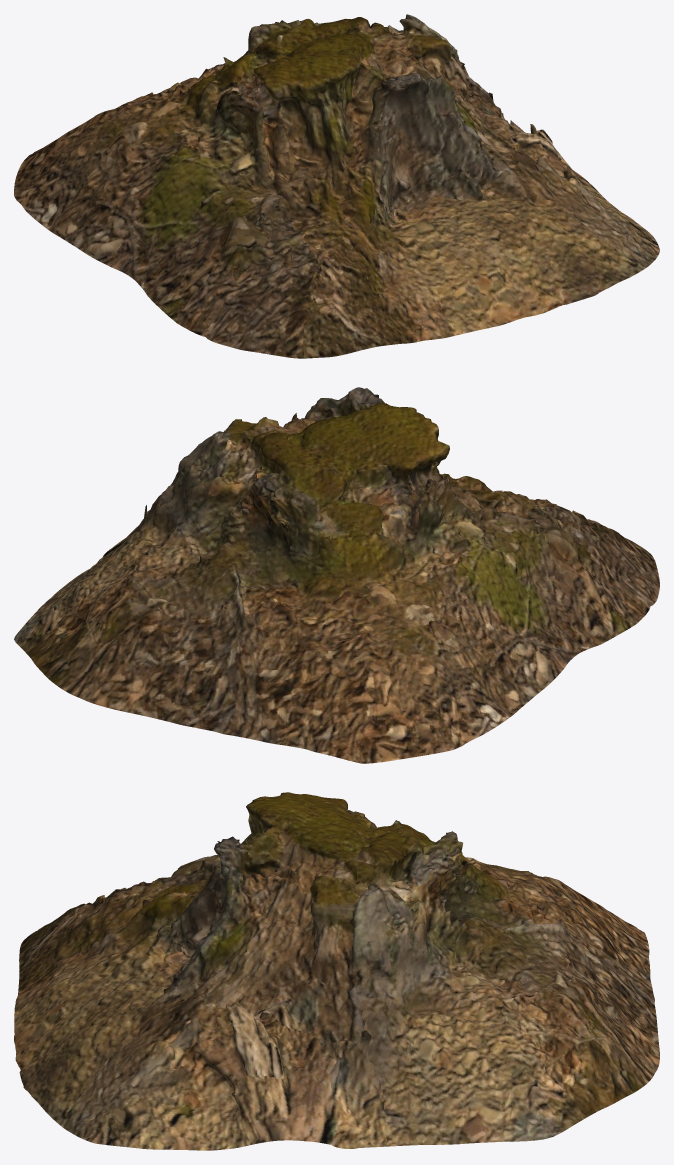
File: tree_stump_01.gltf
The picture shows the model from 3 angles, top to bottom: view 1: azimuth 30°, elevation 25°; view 2: azimuth 150°, elevation 25°; view 3: azimuth 270°, elevation 25°; orthographic projection. The views are drawn at different scales.
Parts seen in each view (by area): view 1: tree_stump_01; view 2: tree_stump_01; view 3: tree_stump_01.
Part boxes in pixels (x1,y1,x2,y2): tree_stump_01: (14,14,659,358); tree_stump_01: (14,387,659,763); tree_stump_01: (14,792,659,1150).
Size of the model in its own units: 1.43 by 0.5727 by 1.59.
1 material, 1 textured.
